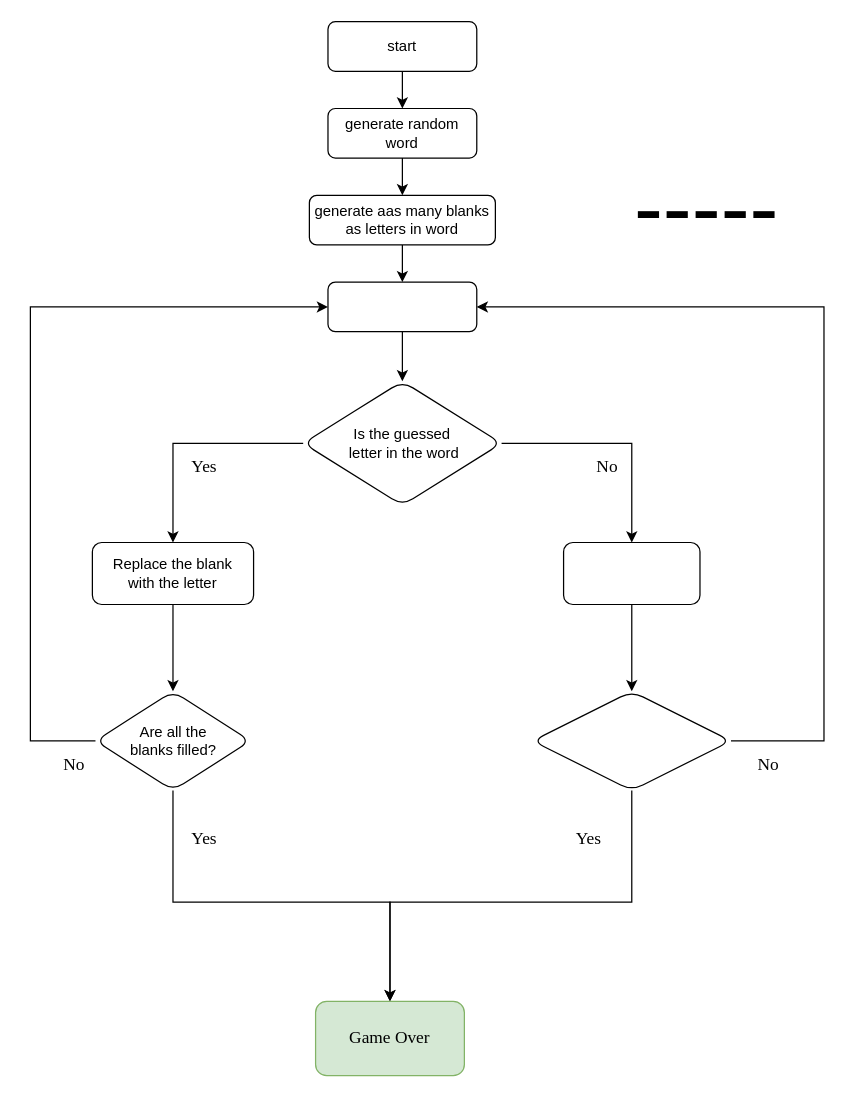
Image size: 856x1097. Some labels were removed from this diagram. The shapes that lost their labels are listed below. From the top down, each one's box as (x1, y1, x2, y2) in pixels, then its label:
(327, 281, 477, 332): ask the user to guess a letter
(562, 541, 700, 604): lose life
(531, 690, 731, 790): Have they run out of lives?
